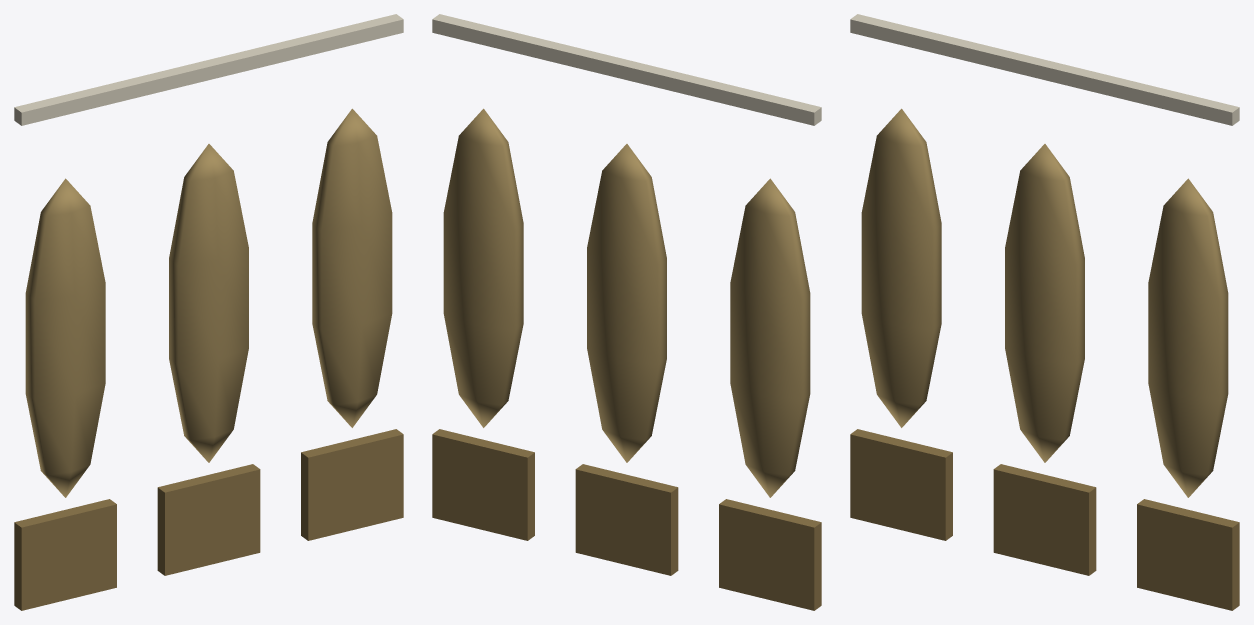
Rendered from good-vobla.glb.
3 views of the same model, side by side, from view 1: azimuth 30°, elevation 25°; view 2: azimuth 150°, elevation 25°; view 3: azimuth 330°, elevation 25° (orthographic).
Visible parts, largest first — view 1: #a08a5a_noshadow, #8a7448_noshadow, #d8d2c0_noshadow; view 2: #a08a5a_noshadow, #8a7448_noshadow, #d8d2c0_noshadow; view 3: #a08a5a_noshadow, #8a7448_noshadow, #d8d2c0_noshadow.
Part boxes in pixels (x1=…): #a08a5a_noshadow: x1=25, y1=108, x2=392, y2=497; #8a7448_noshadow: x1=14, y1=429, x2=403, y2=610; #d8d2c0_noshadow: x1=14, y1=14, x2=403, y2=125; #a08a5a_noshadow: x1=443, y1=108, x2=810, y2=497; #8a7448_noshadow: x1=432, y1=429, x2=821, y2=610; #d8d2c0_noshadow: x1=432, y1=14, x2=821, y2=125; #a08a5a_noshadow: x1=861, y1=108, x2=1228, y2=497; #8a7448_noshadow: x1=850, y1=429, x2=1239, y2=610; #d8d2c0_noshadow: x1=850, y1=14, x2=1239, y2=125.
Bounding box in the file's own units: 0.12 × 0.1495 × 0.0103.
